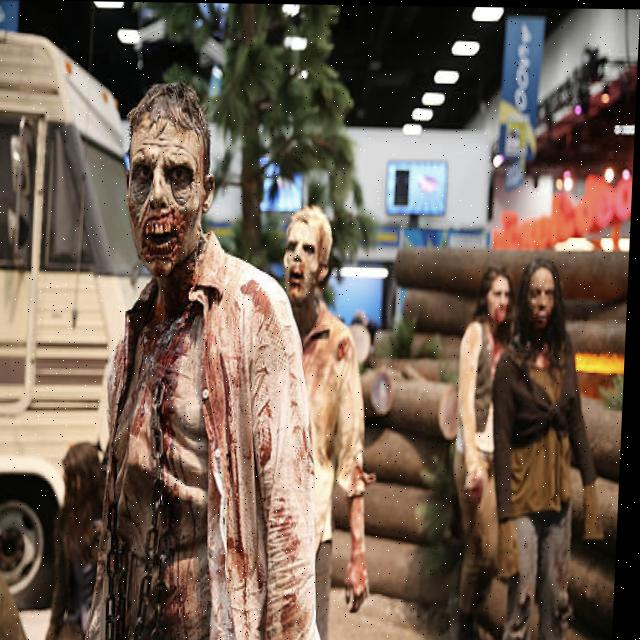Zombie: (129, 91, 207, 266), (284, 217, 337, 296), (533, 260, 565, 330), (492, 270, 514, 326)
